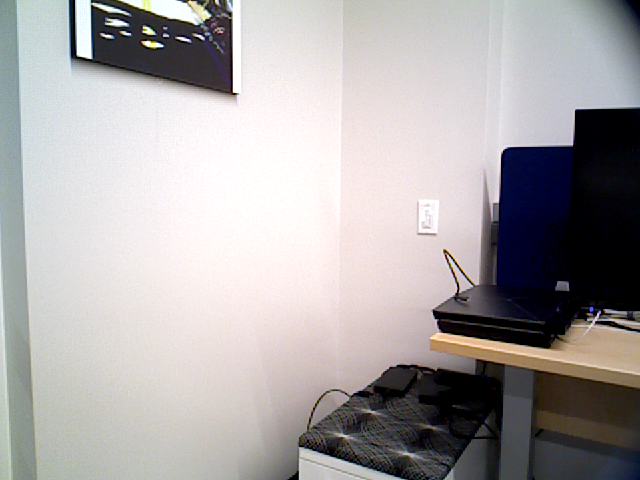painting3: (70, 1, 241, 94)
